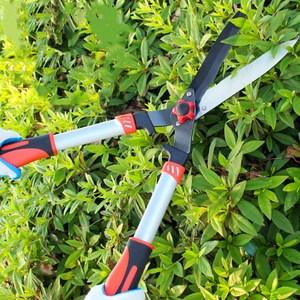scissor: (41, 35, 262, 256)
